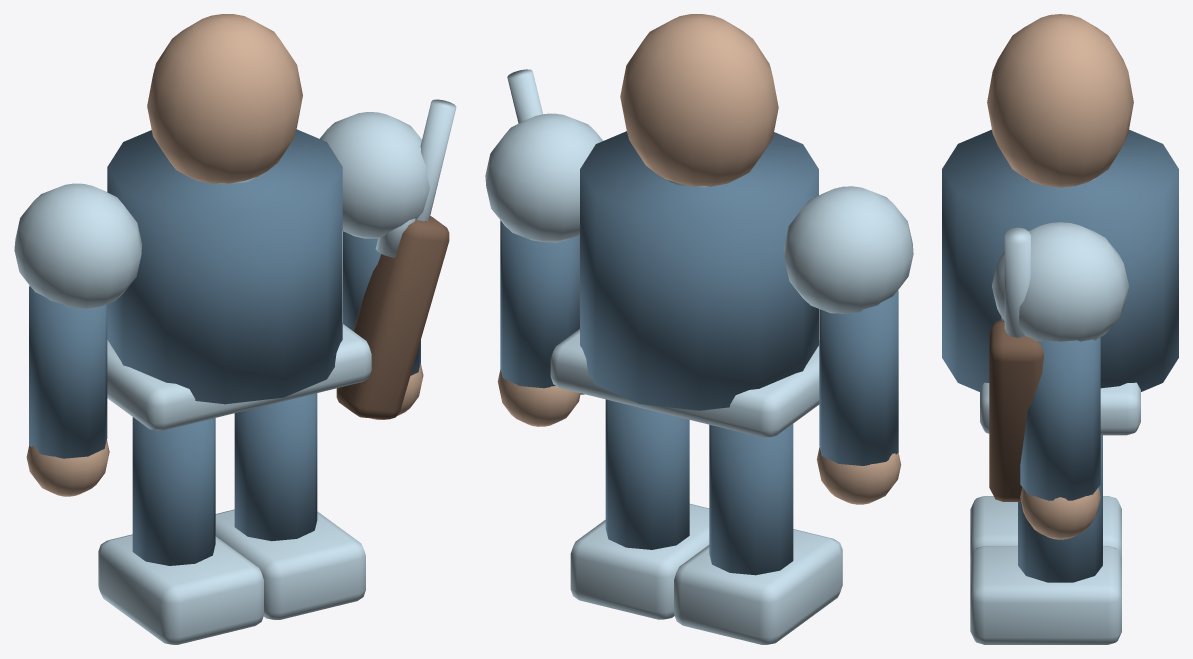
File: Character_2_Placeholder.glb
3 renders of one model, left to right at view 1: azimuth 30°, elevation 25°; view 2: azimuth 150°, elevation 25°; view 3: azimuth 270°, elevation 25°, orthographic.
Visible parts, largest first — view 1: Character_2_Placeholder_Export; view 2: Character_2_Placeholder_Export; view 3: Character_2_Placeholder_Export.
Part boxes in pixels (x1=…): Character_2_Placeholder_Export: x1=14, y1=14, x2=456, y2=644; Character_2_Placeholder_Export: x1=485, y1=14, x2=913, y2=644; Character_2_Placeholder_Export: x1=942, y1=14, x2=1178, y2=644.
Size of the model in its own units: 121 by 162 by 60.
